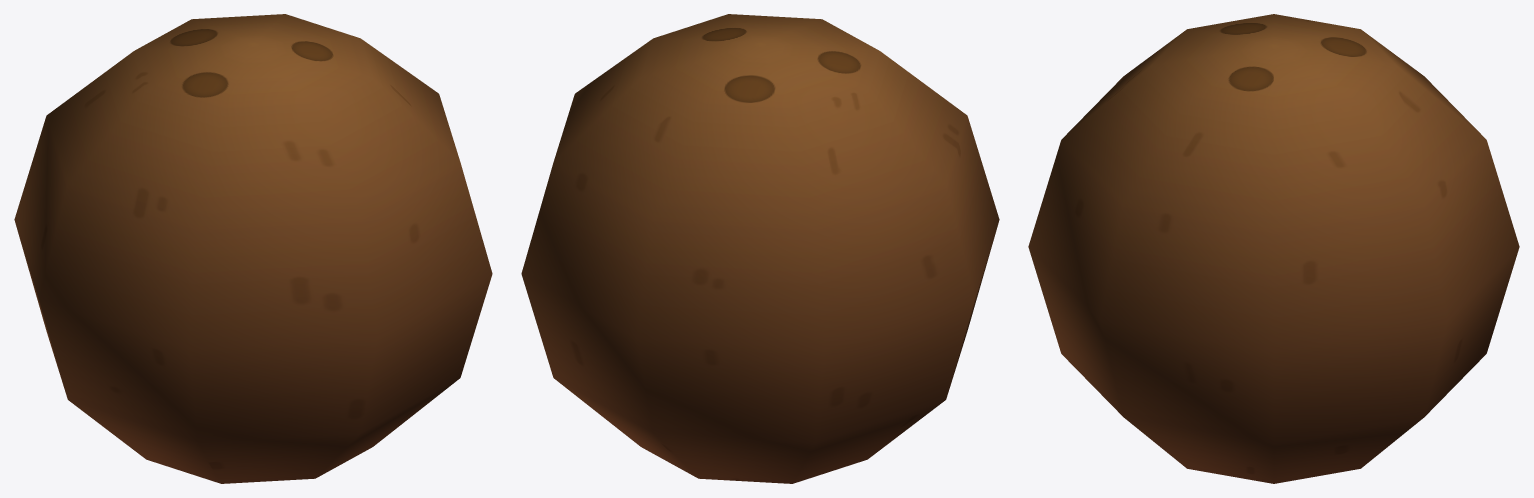
File: coconut.fbx
3 views of the same model, side by side, from view 1: azimuth 30°, elevation 25°; view 2: azimuth 150°, elevation 25°; view 3: azimuth 270°, elevation 25° (orthographic).
Visible parts, largest first — view 1: coconut_mesh; view 2: coconut_mesh; view 3: coconut_mesh.
Part boxes in pixels (left/top/right/bottom): coconut_mesh: left=14, top=14, right=492, bottom=483; coconut_mesh: left=521, top=14, right=999, bottom=483; coconut_mesh: left=1028, top=14, right=1519, bottom=483.
Bounding box in the file's own units: 1.36 × 1.24 × 1.36.
